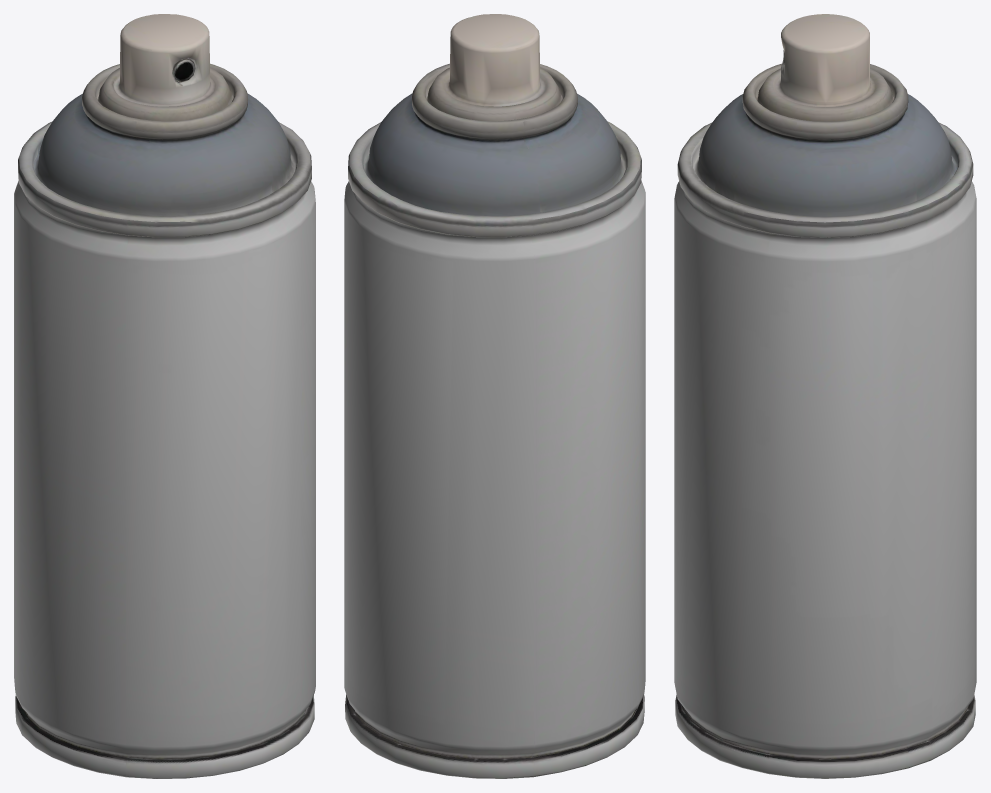
The model's file is Misc__spray_paint_can_47f1f987_v2.cluster.glb.
The picture shows the model from 3 angles, left to right: view 1: azimuth 30°, elevation 25°; view 2: azimuth 150°, elevation 25°; view 3: azimuth 270°, elevation 25°; orthographic projection.
Visible parts, largest first — view 1: material; view 2: material; view 3: material.
Part boxes in pixels (x1,y1,x2,y2): material: (14,14,315,778); material: (344,14,645,778); material: (674,14,976,778).
Size of the model in its own units: 0.7597 by 1.9 by 0.7597.
Materials: 1 (1 with a texture image).
